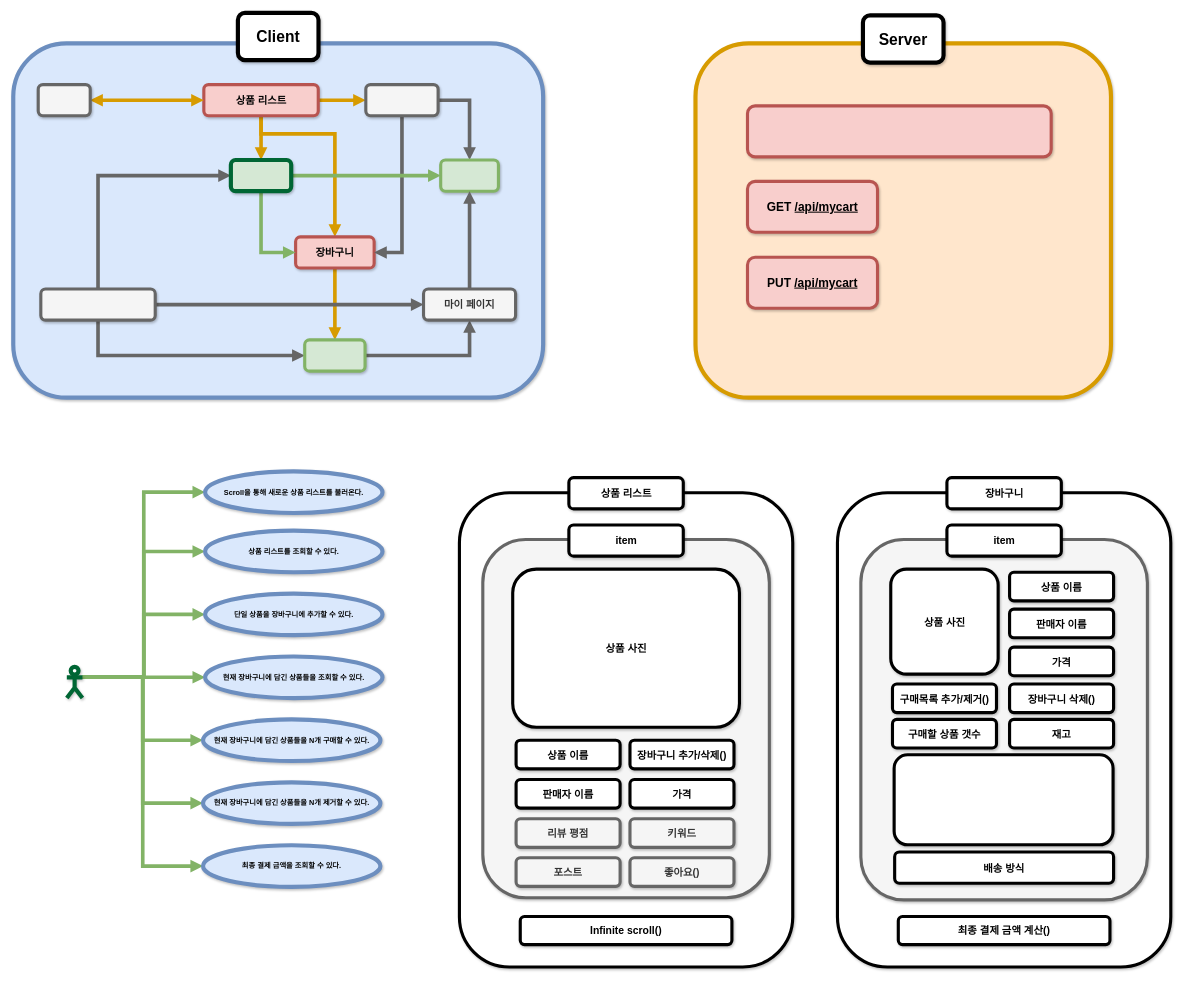
Image size: 1184x981. Some labels were removed from this diagram. Each missing label, with the centre of its shape:
"GET /api/items?q=<search>&offset=0&limit=10" belongs at (900,132).
"user" belongs at (74,683).
"검색" belongs at (64,101).
"결제" belongs at (335,356).
"리뷰" belongs at (470,176).
"상세정보" belongs at (402,101).
"옵션" belongs at (1003,800).
"좋아요" belongs at (261,176).
"회원가입 / 로그인" belongs at (98,305).
